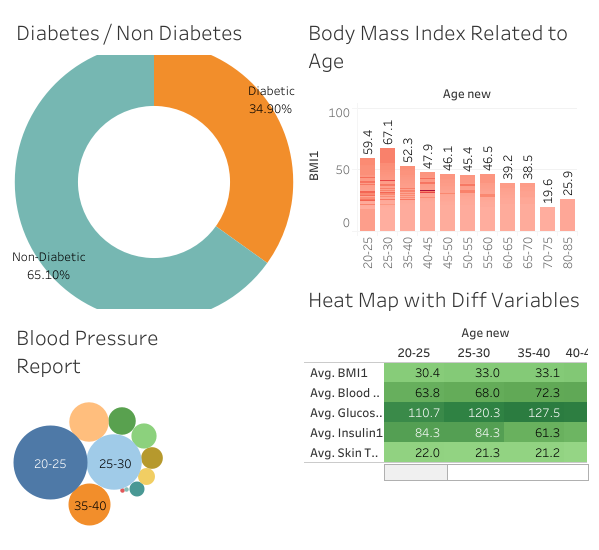

The page's visual inventory and layout, read from the dashboard file:
{"tool":"tableau","page":{"name":"Dashboard 1","canvas":[1000,1000],"units":"permille","ordinal":0},"visuals":[{"type":"worksheet","title":"Donut Pie chart","mark":"Pie","rows":["Number of Records","Number of Records"],"box":[13.3,13.5,486.7,554.8]},{"type":"worksheet","title":"Body Mass to age","mark":"Bar","rows":["BMI"],"cols":["Calculation_79938895863570433"],"box":[500,13.5,486.7,485.7]},{"type":"worksheet","title":"Heat Map with Diff Variables","mark":"Square","cols":["Calculation_79938895863570433"],"box":[500,499.2,486.7,487.4]},{"type":"worksheet","title":"Blood Pressure Report","mark":"Circle","box":[13.3,568.3,486.7,418.2]}]}

Visuals, with their boxes on the dashboard's canvas, which has no fixed pixel size, in thousandths of its width and height (x1, y1, x2, y2). These are canvas units, not pixel positions in the 599x550 screenshot, which may show the page scaled, cropped or inside an application window:
"Donut Pie chart" worksheet (Pie marks): 13 14 500 568
"Body Mass to age" worksheet (Bar marks): 500 14 987 499
"Heat Map with Diff Variables" worksheet (Square marks): 500 499 987 987
"Blood Pressure Report" worksheet (Circle marks): 13 568 500 986
